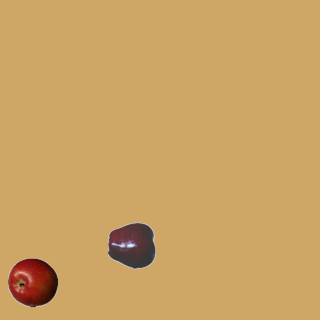Apple Braeburn: (7, 257, 57, 307)
Apple Red Delicious: (107, 220, 157, 270)
